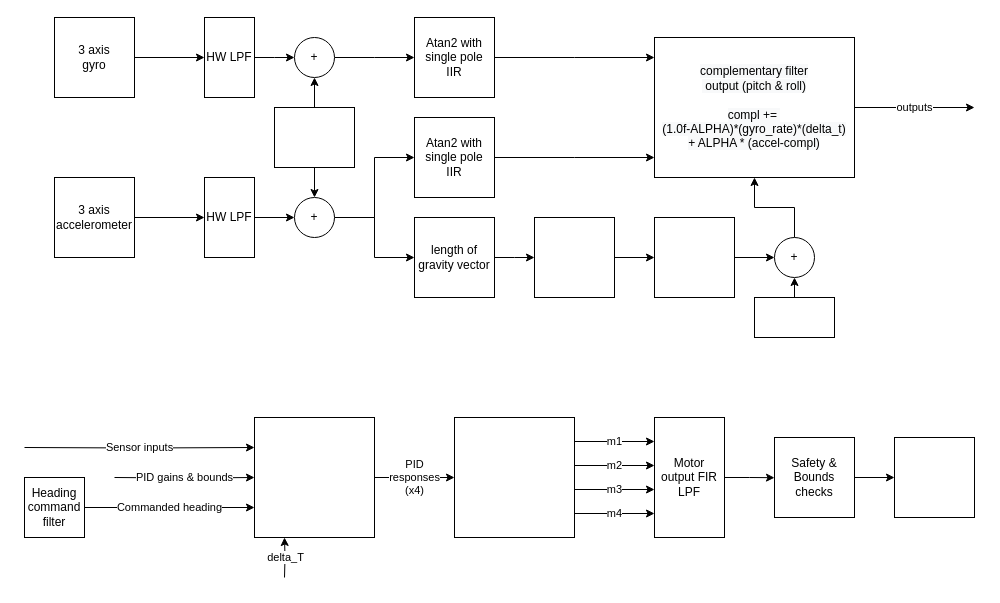
The diagram is 1000 pixels wide and 603 high, and some of its shapes have lost their labels. Each missing label, with the box of its shape:
8 pt. hanning window FIR LPF: (534, 216, 614, 298)
alpha correction factor computation: (654, 216, 734, 298)
baseline alpha value: (754, 296, 834, 338)
Calibration offsets: (274, 106, 354, 168)
motor output computation: (454, 416, 574, 538)
PID loops (x3 + auto-throttle): (254, 416, 374, 538)
PWM driver: (894, 436, 974, 518)
